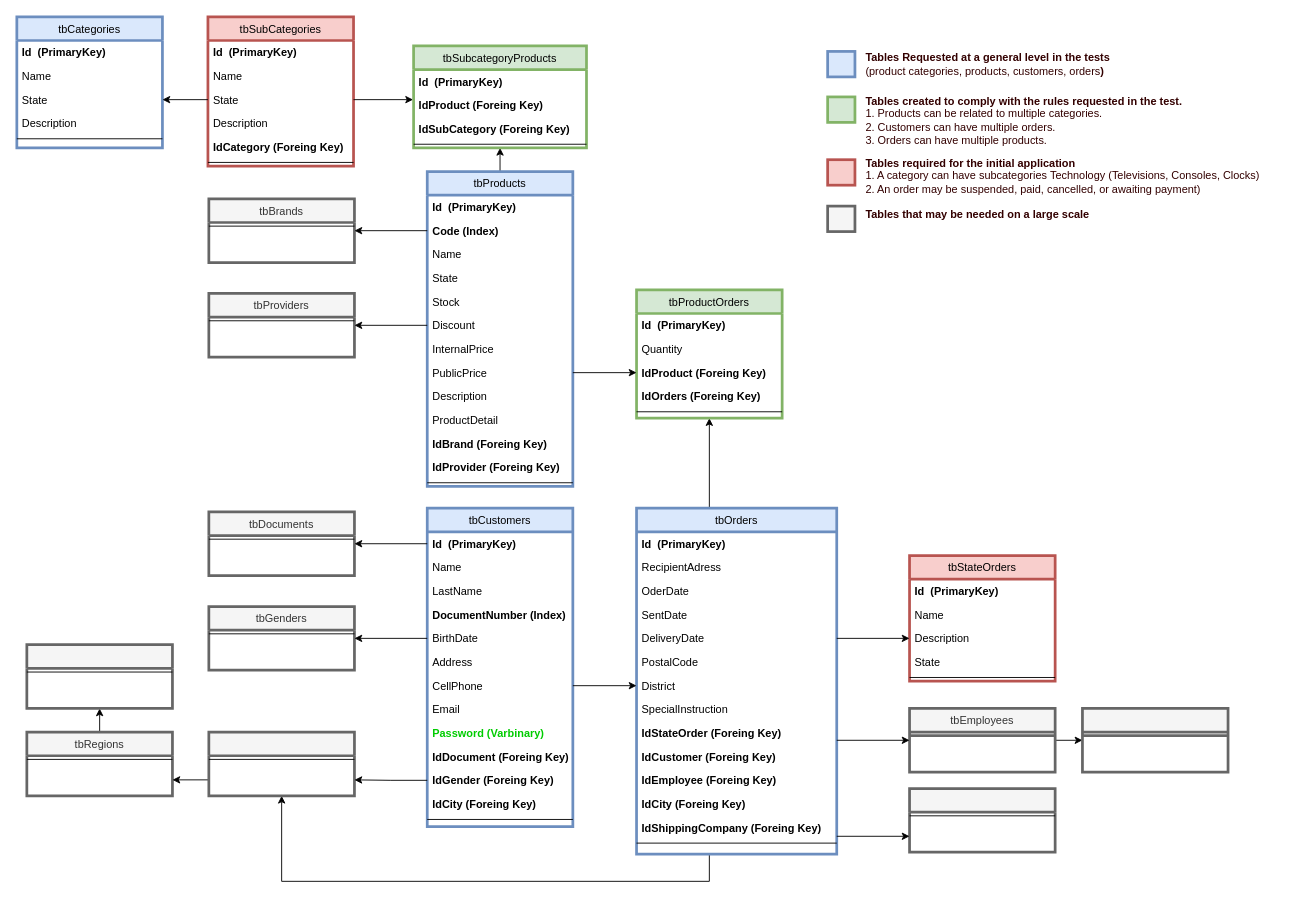
The diagram is 1299 pixels wide and 905 high, and some of its shapes have lost their labels. The centre of each missing label's shape, as x and y in pixels:
tbCities: the point at 281,763
tbCountries: the point at 99,676
tbPositions: the point at 1155,740
tbShippingCompanies: the point at 982,820
